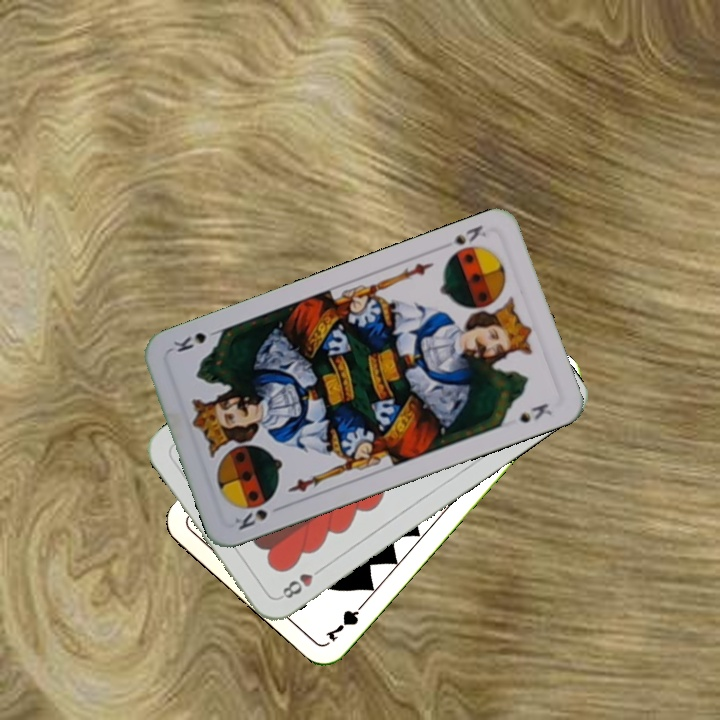G7: (321, 596, 369, 644)
H8: (275, 562, 327, 602)
SK: (444, 221, 489, 261), (230, 505, 271, 533)
